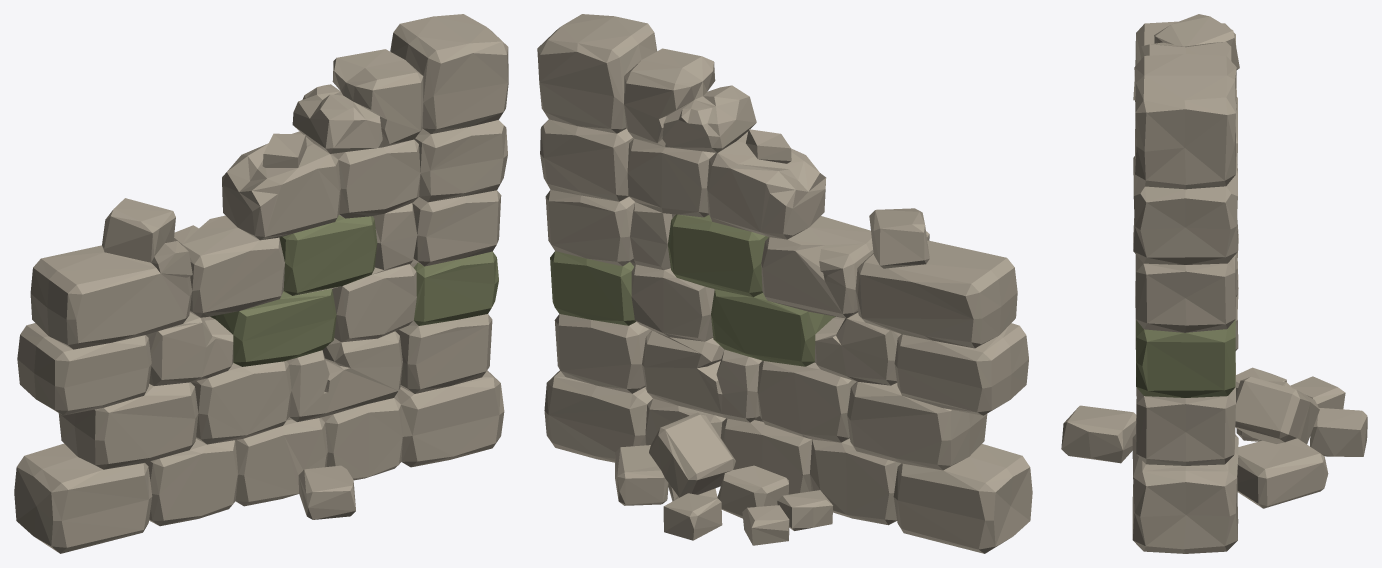
The model's file is RuinedWall.fbx.
3 views of the same model, side by side, from view 1: azimuth 30°, elevation 25°; view 2: azimuth 150°, elevation 25°; view 3: azimuth 270°, elevation 25° (orthographic). The views are drawn at different scales.
Visible parts, largest first — view 1: RuinedWall_LOD0; view 2: RuinedWall_LOD0; view 3: RuinedWall_LOD0.
Part boxes in pixels (x1,y1,x2,y2): RuinedWall_LOD0: (14, 14, 508, 553); RuinedWall_LOD0: (537, 14, 1032, 553); RuinedWall_LOD0: (1061, 14, 1367, 553).
Size of what is drawn, in the model's own units: 3 by 1.54 by 2.59.
